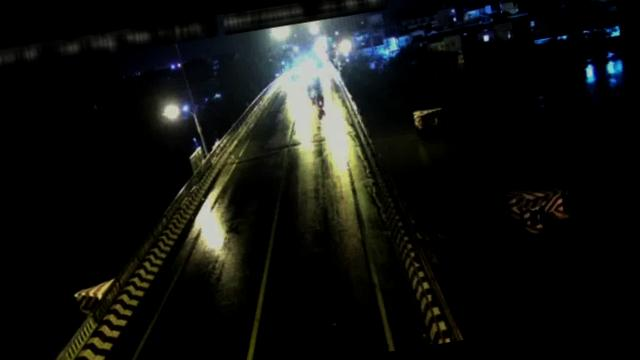Bike: (315, 89, 326, 111)
